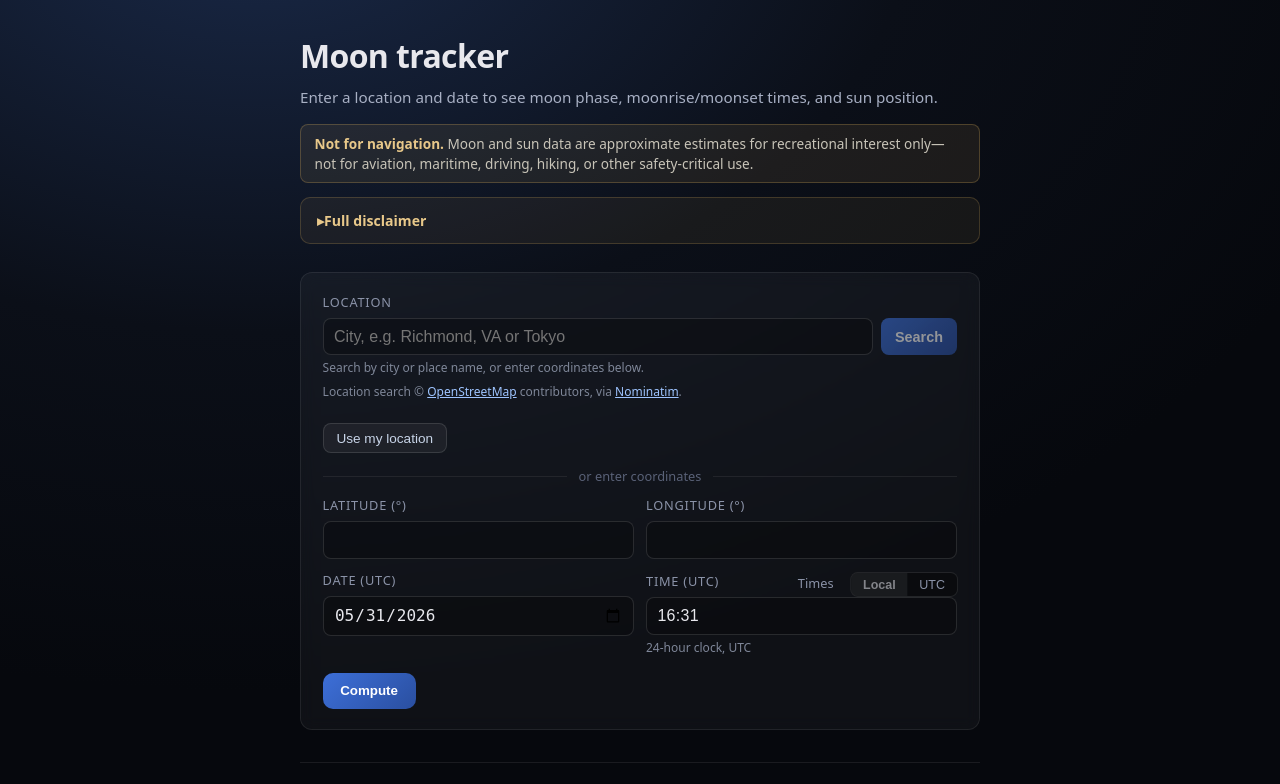
location search (Nominatim) › shows search-failed copy when Nominatim returns a non-OK status
Type "Paris" into the search field with placeholder "City, e.g. Richmond, VA or Tokyo" at (598, 337), box left=323, top=318, right=873, bottom=356
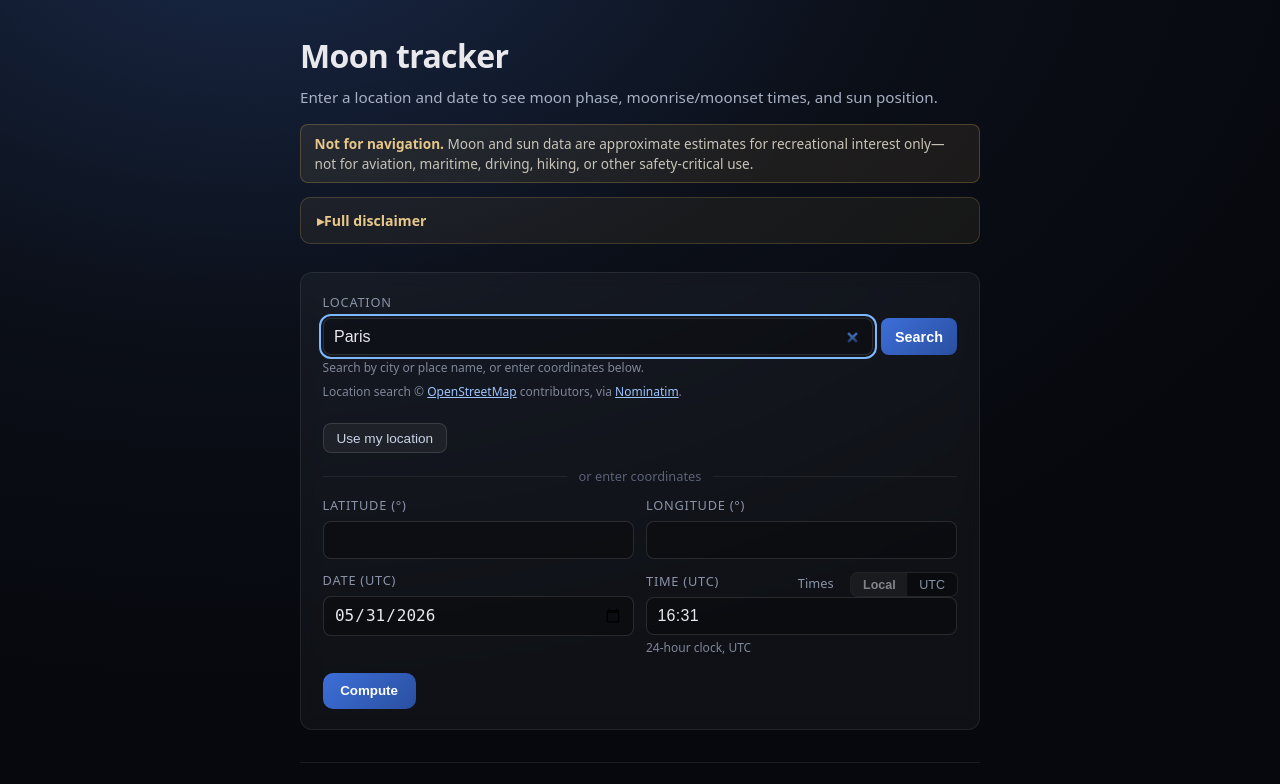
Click the button "Search" at (919, 337), box left=881, top=318, right=957, bottom=356
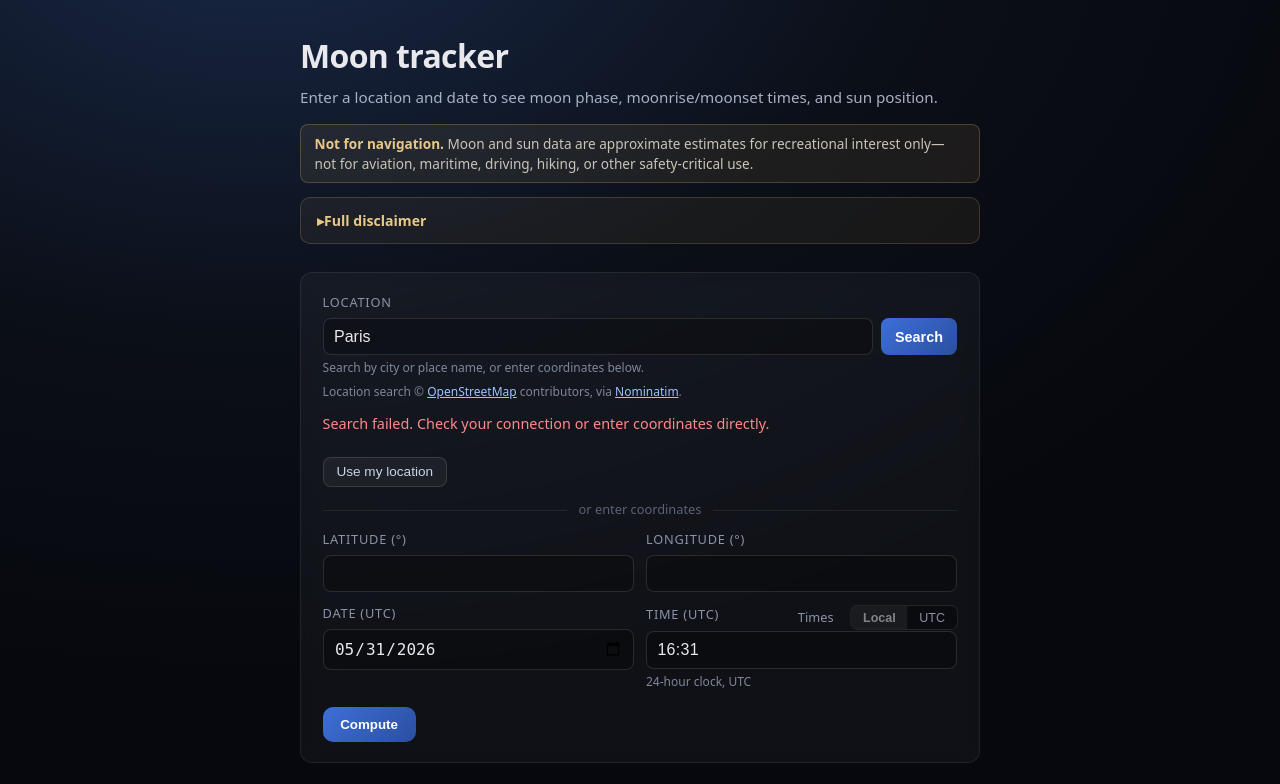
Result: the text "Search failed. Check your connection or enter coordinates directly." is shown at left=323, top=414, right=769, bottom=433
